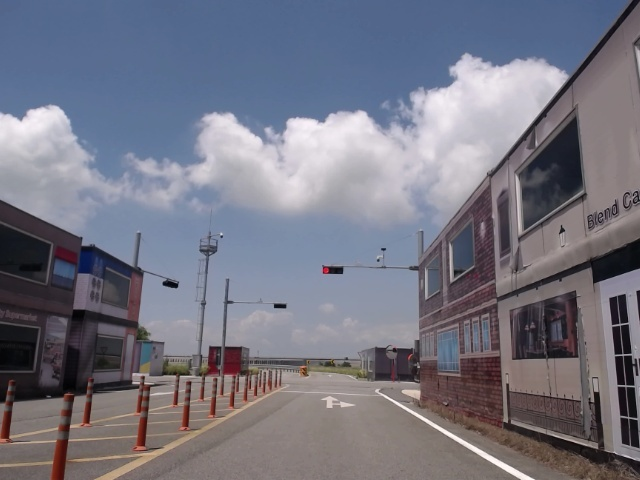red_3: (322, 264, 344, 274)
